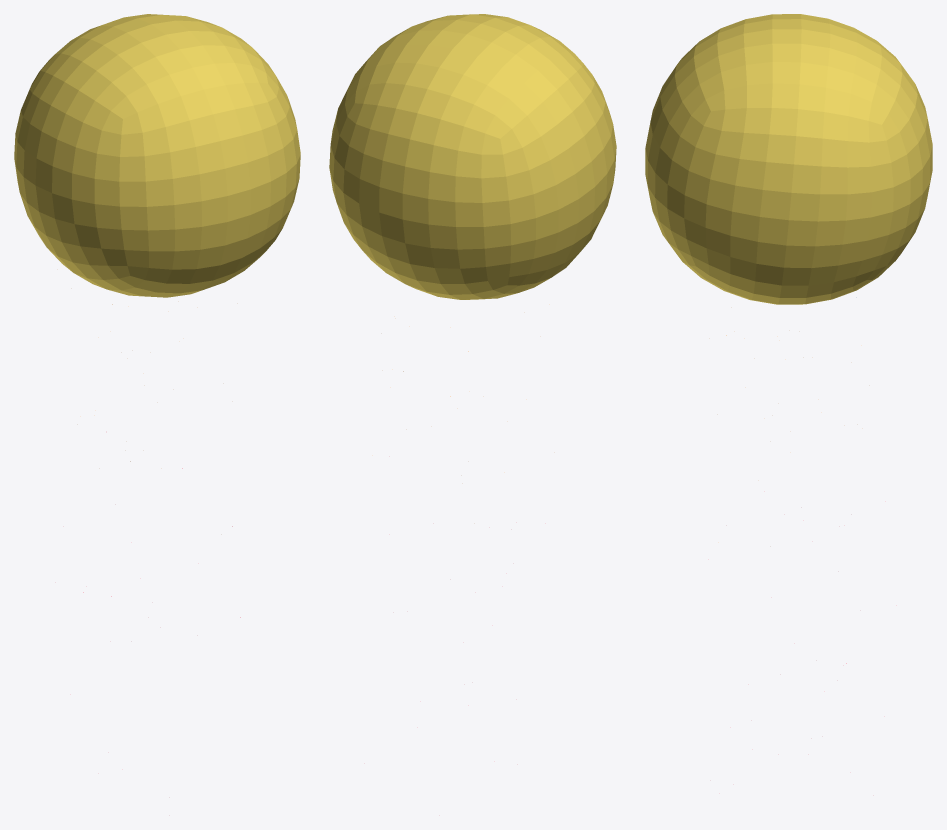
Rendered from confetti-ball-2.glb.
The picture shows the model from 3 angles, left to right: view 1: azimuth 30°, elevation 25°; view 2: azimuth 150°, elevation 25°; view 3: azimuth 270°, elevation 25°; orthographic projection. The views are drawn at different scales.
Parts seen in each view (by area): view 1: Cube.001, Cube; view 2: Cube, Cube.001; view 3: Cube.001, Cube.
Boxes of the visible parts, x1,y1,x2,y2 form: Cube.001: [35, 20, 300, 297]; Cube: [14, 14, 219, 271]; Cube: [329, 30, 594, 299]; Cube.001: [382, 14, 616, 251]; Cube.001: [645, 14, 801, 304]; Cube: [778, 14, 932, 304].
Size of what is drawn, in the model's own units: 1.68 by 4.98 by 1.67.
